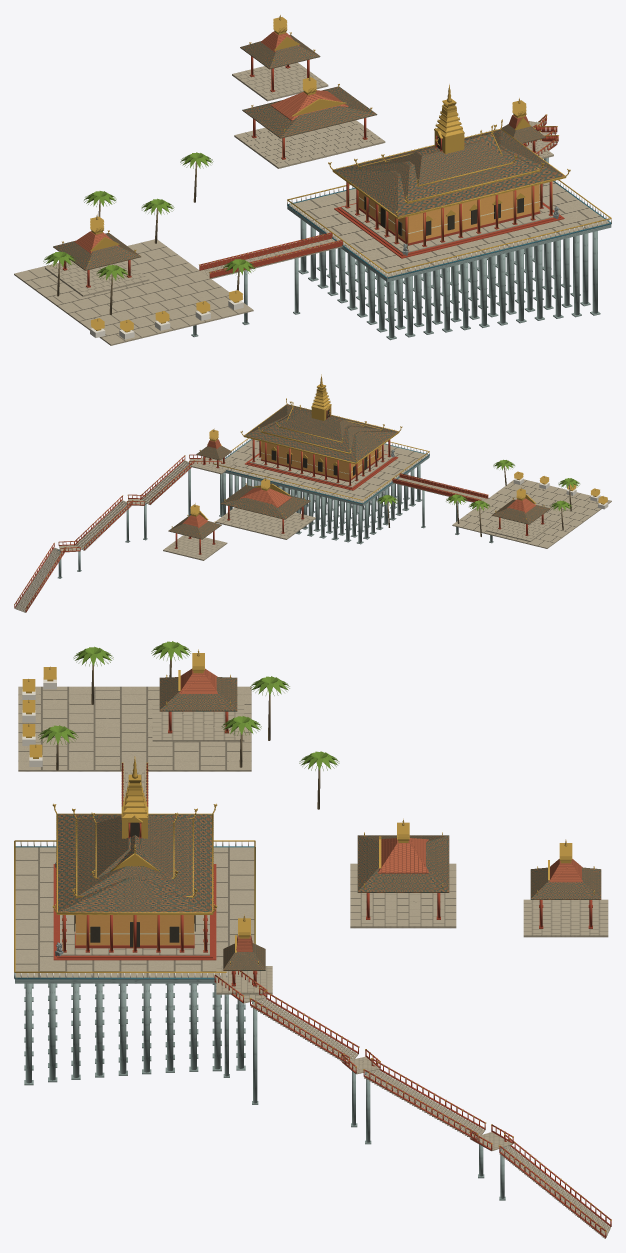
Rendered from chua-ta-pa.glb.
The picture shows the model from 3 angles, top to bottom: view 1: azimuth 30°, elevation 25°; view 2: azimuth 150°, elevation 25°; view 3: azimuth 270°, elevation 25°; orthographic projection. The views are drawn at different scales.
Parts seen in each view (by area): view 1: Chùa Tà Pạ near; view 2: Chùa Tà Pạ near; view 3: Chùa Tà Pạ near.
Part boxes in pixels (<box>): Chùa Tà Pạ near: <box>14,15,611,345</box>; Chùa Tà Pạ near: <box>14,374,611,612</box>; Chùa Tà Pạ near: <box>14,641,611,1238</box>.
Bounding box in the file's own units: 129 × 51.24 × 84.63.
Materials: 1 (1 with a texture image).
